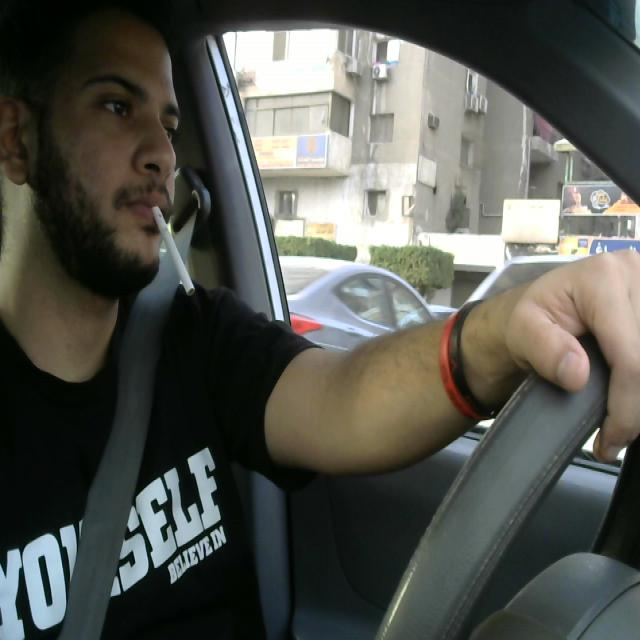smoking: (142, 196, 198, 305)
